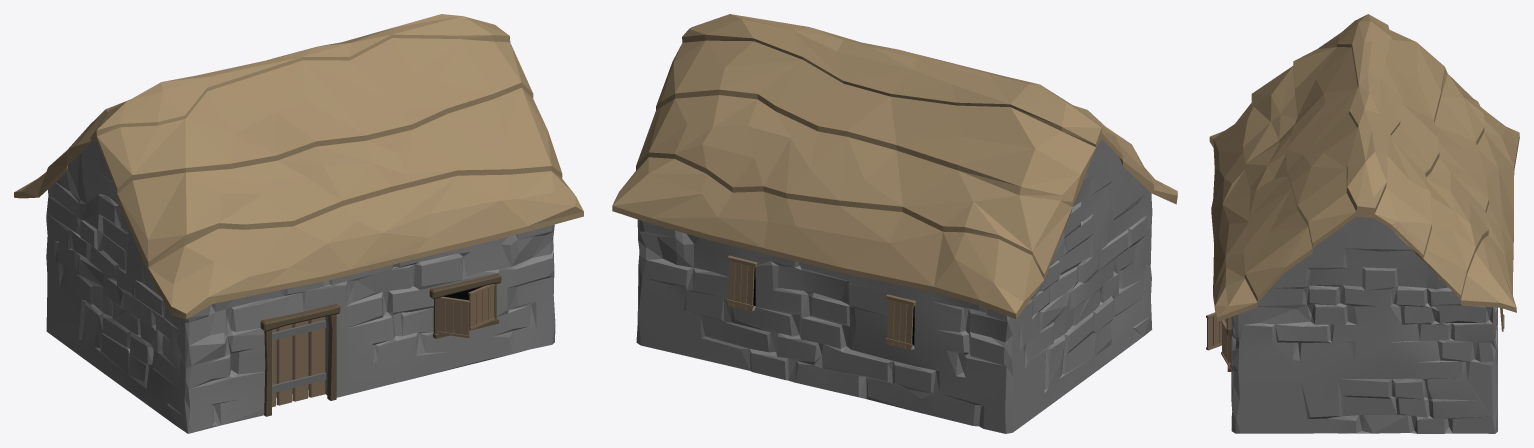
The model's file is village_stone_house_h.FBX.
3 views of the same model, side by side, from view 1: azimuth 30°, elevation 25°; view 2: azimuth 150°, elevation 25°; view 3: azimuth 270°, elevation 25° (orthographic). The views are drawn at different scales.
Parts seen in each view (by area): view 1: village_stone_house_h; view 2: village_stone_house_h; view 3: village_stone_house_h.
Boxes of the visible parts, x1=… form: village_stone_house_h: x1=14, y1=14, x2=583, y2=433; village_stone_house_h: x1=612, y1=14, x2=1177, y2=433; village_stone_house_h: x1=1206, y1=14, x2=1519, y2=433.
Bounding box in the file's own units: 8.28 × 5.51 × 5.88.
